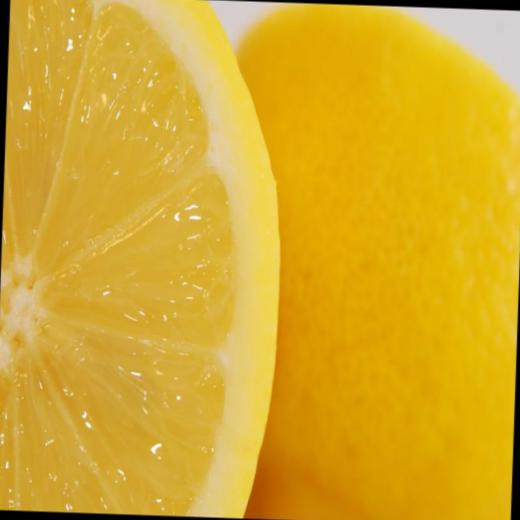Grape: (220, 0, 520, 520)
